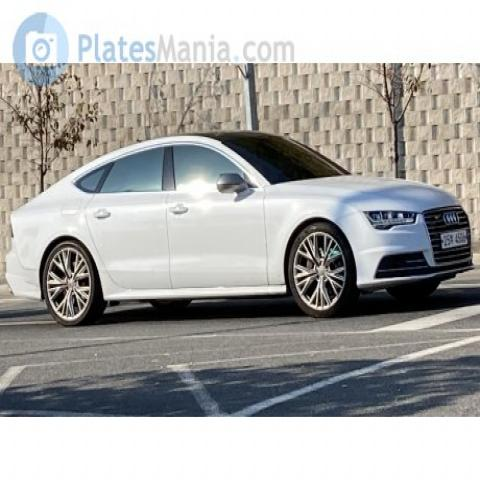LP: (436, 216, 473, 253)
